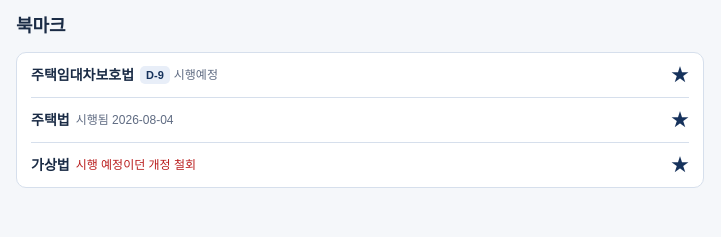
Test: BookmarkListView › 해제 실패면 행을 그대로 두고 안내
Click the button named "주택법 북마크 해제" at (680, 120), box [671,111,689,129]
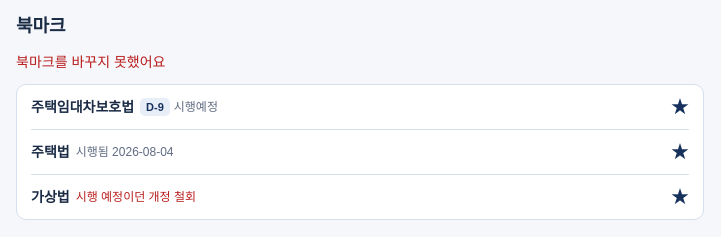
Check: the link "주택법" is shown, box [31,142,70,162]
Check: the message reads "북마크를 바꾸지 못했어요", box [16,54,166,70]
